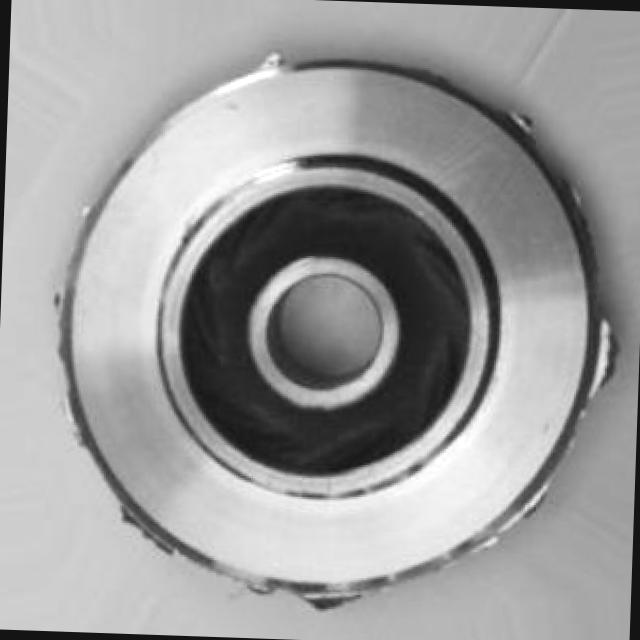Defect: (586, 312, 624, 386)
